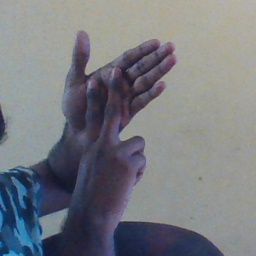N: (53, 27, 186, 182)
